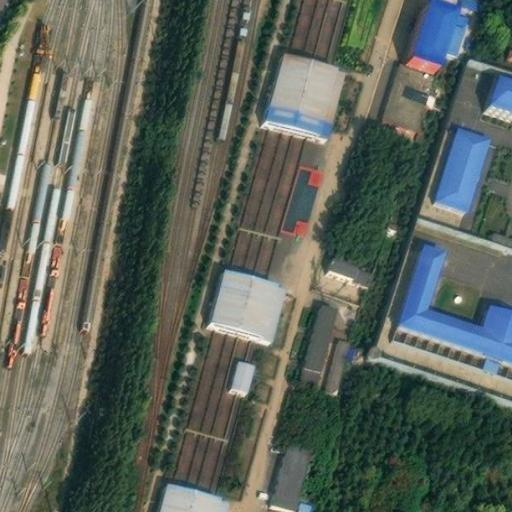building: (397, 234, 512, 370), (362, 344, 483, 404), (264, 44, 347, 131), (208, 261, 289, 334), (434, 119, 489, 203), (382, 56, 437, 127), (299, 297, 340, 383), (269, 435, 314, 510), (155, 473, 230, 512), (323, 332, 356, 389), (329, 249, 373, 276), (445, 7, 469, 48), (228, 350, 255, 386), (489, 65, 512, 103)
